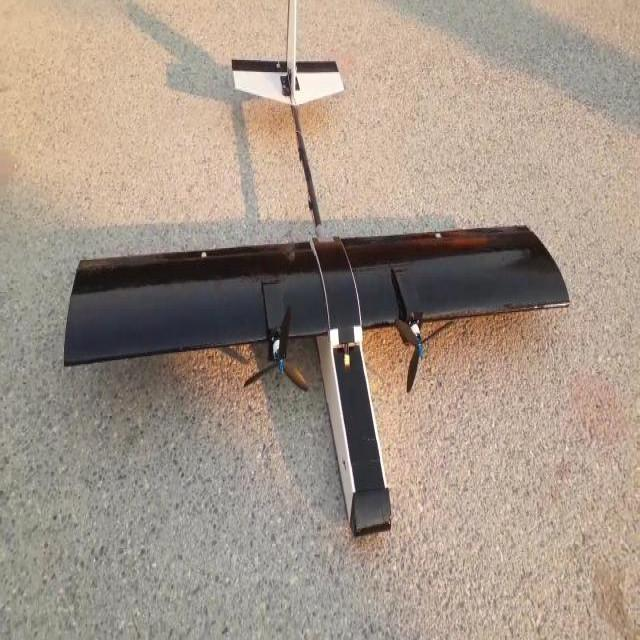Airplane: (58, 6, 574, 554)
